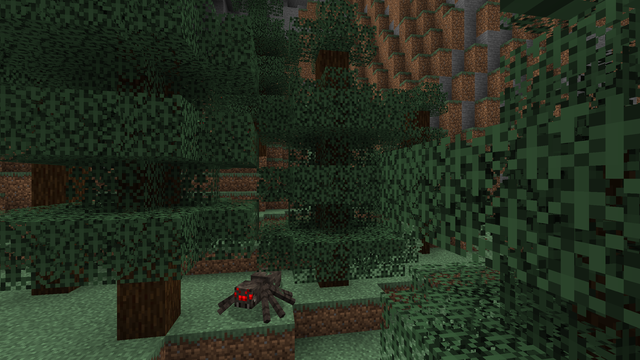araignees: (226, 268, 282, 323)
